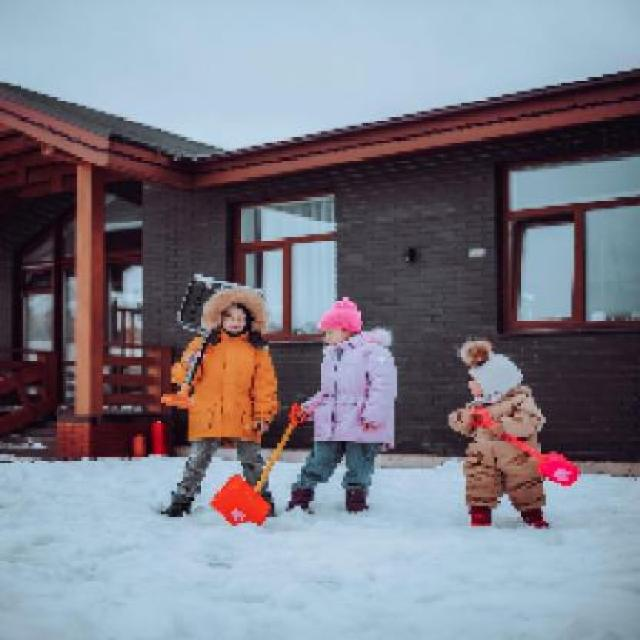child: (157, 286, 280, 514), (448, 340, 583, 531), (290, 296, 399, 516)
